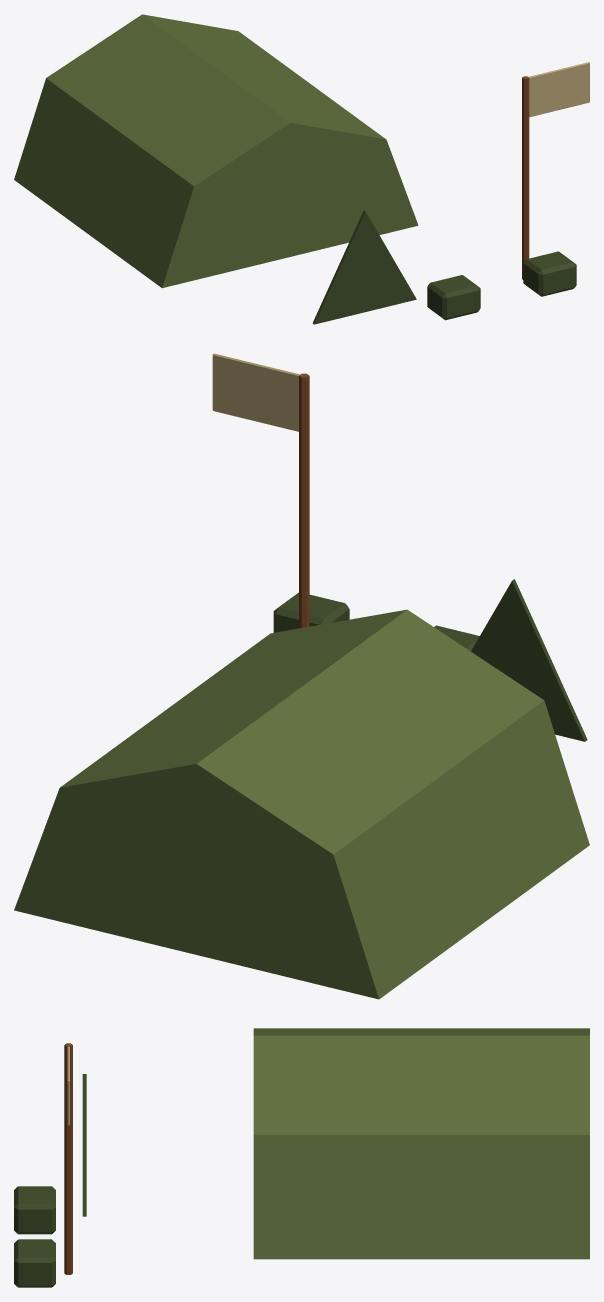
The model's file is CommandTent.fbx.
3 views of the same model, one above another, from view 1: azimuth 30°, elevation 25°; view 2: azimuth 150°, elevation 25°; view 3: azimuth 270°, elevation 25° (orthographic). The views are drawn at different scales.
Visible parts, largest first — view 1: CommandTent; view 2: CommandTent; view 3: CommandTent.
Part boxes in pixels (left/top/right/bottom): CommandTent: left=14, top=14, right=589, bottom=324; CommandTent: left=14, top=353, right=589, bottom=999; CommandTent: left=14, top=1028, right=589, bottom=1287.
Bounding box in the file's own units: 10.8 × 6 × 13.7.
Materials: 1 (1 with a texture image).
